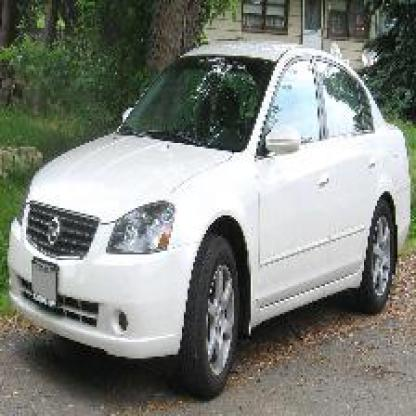not_emergency: (17, 34, 405, 374)
